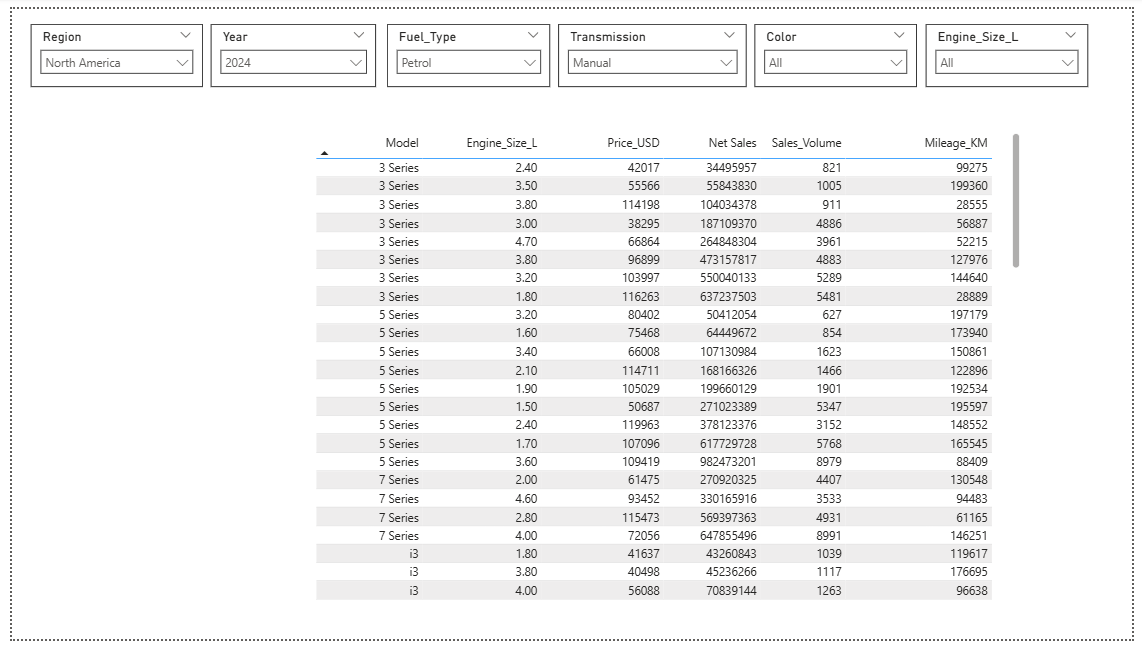

The page's visual inventory and layout, read from the dashboard file:
{"tool":"powerbi","page":{"name":"Detailed Sales Analysis","canvas":[1280,720],"ordinal":2},"visuals":[{"type":"tableEx","fields":{"Values":["BMW Project.Model","BMW Project.Price_USD","BMW Project.Net Sales","BMW Project.Sales_Volume","BMW Project.Mileage_KM"]},"box":[342.1,136.8,665.5,543.6],"z":0},{"type":"slicer","fields":{"Values":["BMW Project.Region"]},"box":[21.1,17.4,196.5,72.1],"z":1},{"type":"slicer","fields":{"Values":["BMW Project.Year"]},"box":[227.6,17.4,189.1,72.1],"z":2},{"type":"slicer","fields":{"Values":["BMW Project.Fuel_Type"]},"box":[427.9,17.4,186.6,72.1],"z":3},{"type":"slicer","fields":{"Values":["BMW Project.Color"]},"box":[848.4,17.4,185.3,72.1],"z":4},{"type":"slicer","fields":{"Values":["BMW Project.Transmission"]},"box":[624.5,17.4,215.2,72.1],"z":5},{"type":"slicer","fields":{"Values":["BMW Project.Engine_Size_L"]},"box":[1043.7,17.4,185.3,72.1],"z":6}]}

Visuals, with their boxes in screenshot pixels (x1, y1, x2, y2), scaled from the page's 1280x720 canvas onto the 1142x646 screenshot:
tableEx - BMW Project.Model x BMW Project.Price_USD: {"left": 305, "top": 123, "right": 899, "bottom": 610}
slicer - BMW Project.Region: {"left": 19, "top": 16, "right": 194, "bottom": 80}
slicer - BMW Project.Year: {"left": 203, "top": 16, "right": 372, "bottom": 80}
slicer - BMW Project.Fuel_Type: {"left": 382, "top": 16, "right": 548, "bottom": 80}
slicer - BMW Project.Color: {"left": 757, "top": 16, "right": 922, "bottom": 80}
slicer - BMW Project.Transmission: {"left": 557, "top": 16, "right": 749, "bottom": 80}
slicer - BMW Project.Engine_Size_L: {"left": 931, "top": 16, "right": 1096, "bottom": 80}
